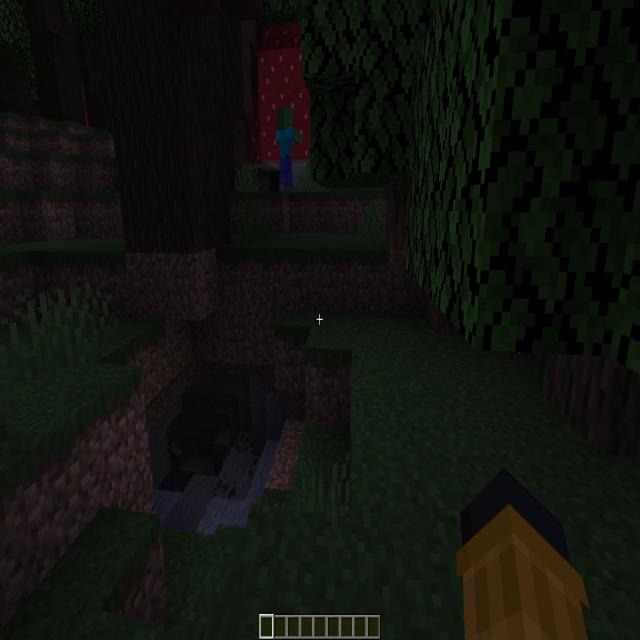Zombie: (276, 106, 300, 190)
